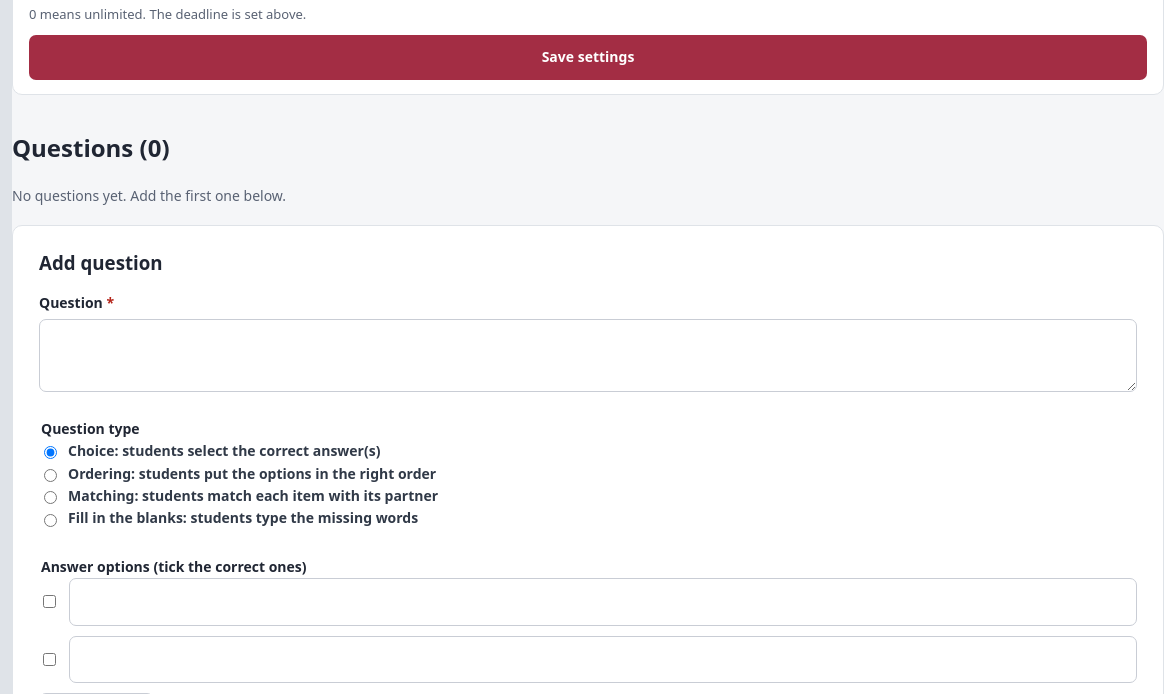
Test: QuizEditor › shows the server error when saving fails
(page scrolled)
Step 1. Type "Q" into the text box labelled "Question *" → (588, 355), box [39,319,1137,392]
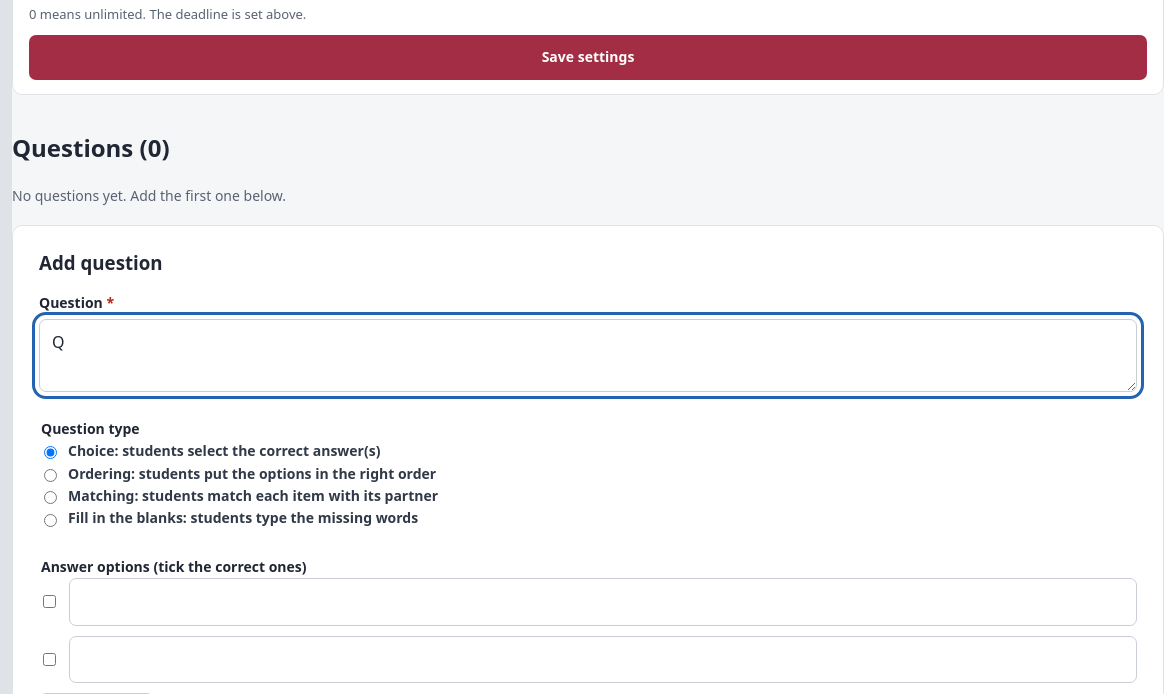
Step 2. Type "Bergen" into the field named "Option 1" → (603, 602), box [69,578,1137,626]
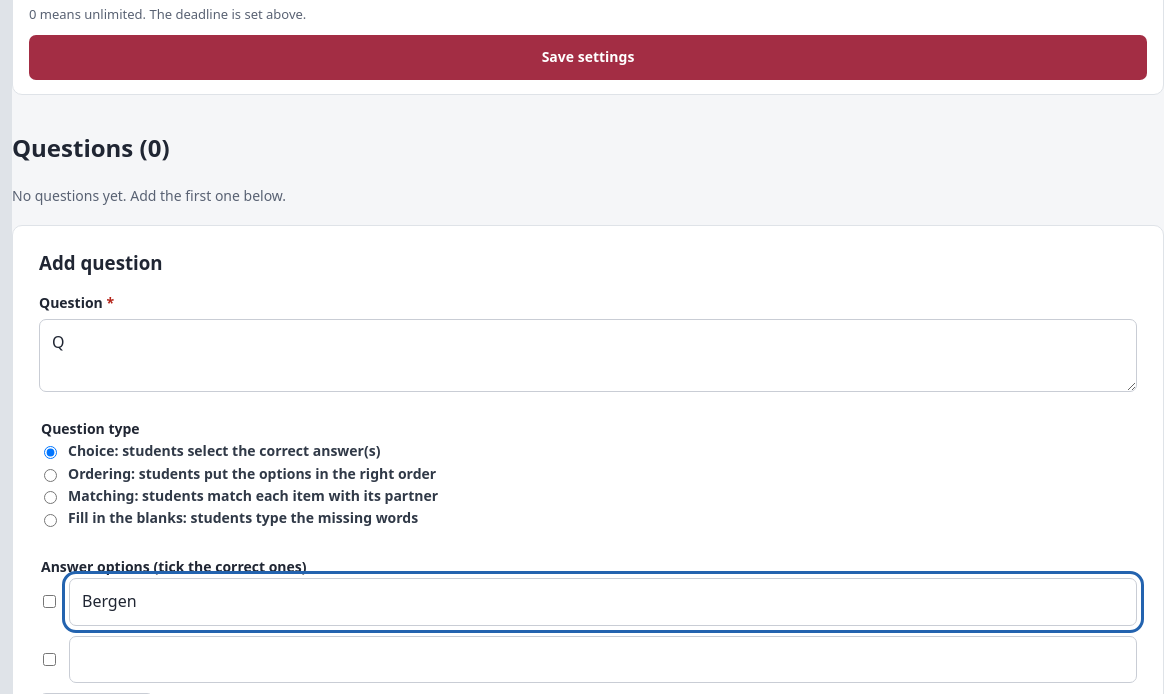
Step 3. Type "Oslo" into the field named "Option 2" → (603, 660), box [69,636,1137,683]
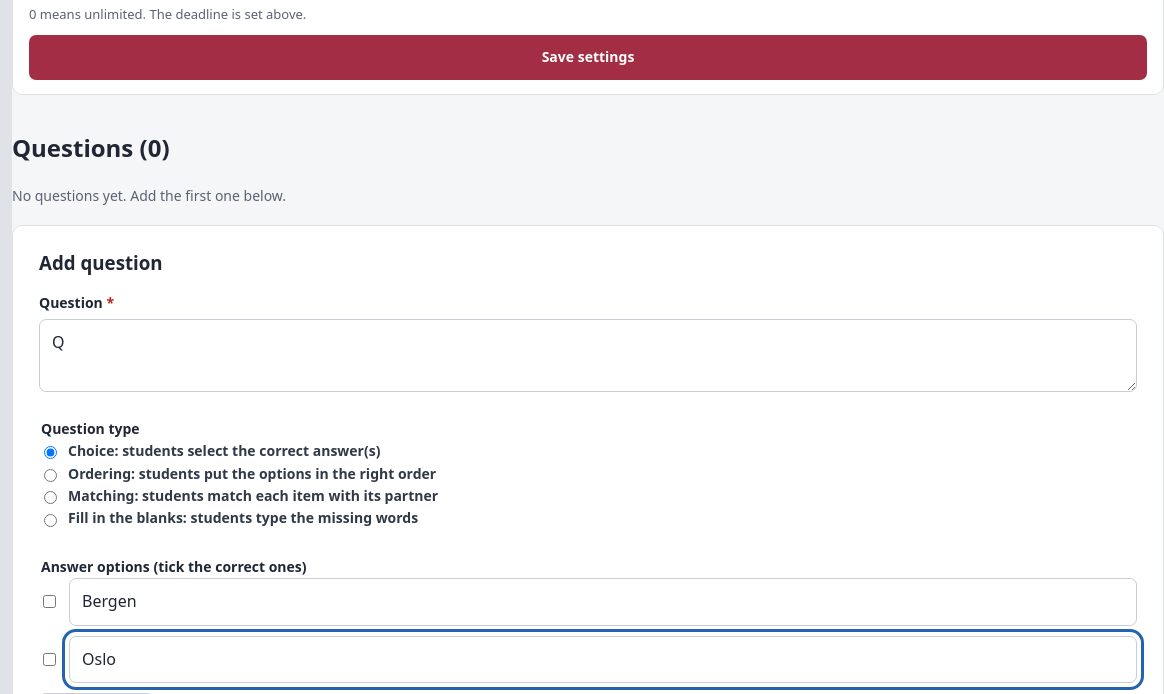
Step 4. Click the checkbox named "Option 1 is correct" → (50, 602), box [43,596,56,608]
(page scrolled)
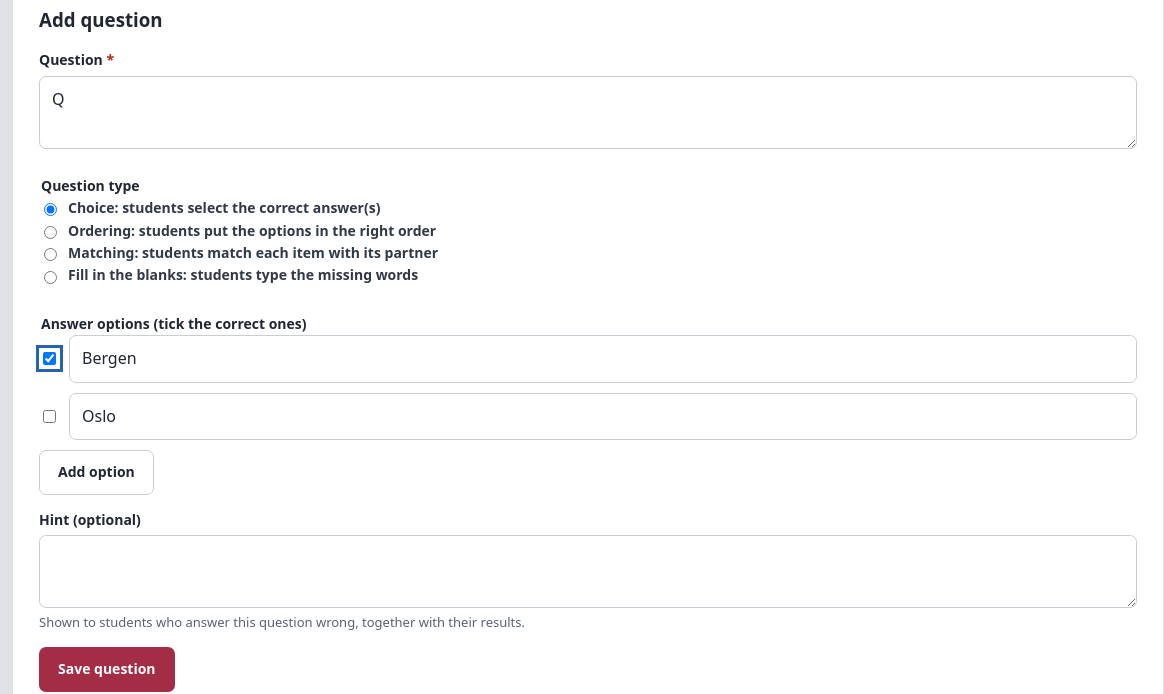
Step 5. Click the button "Save question" → (107, 669), box [39,647,175,692]
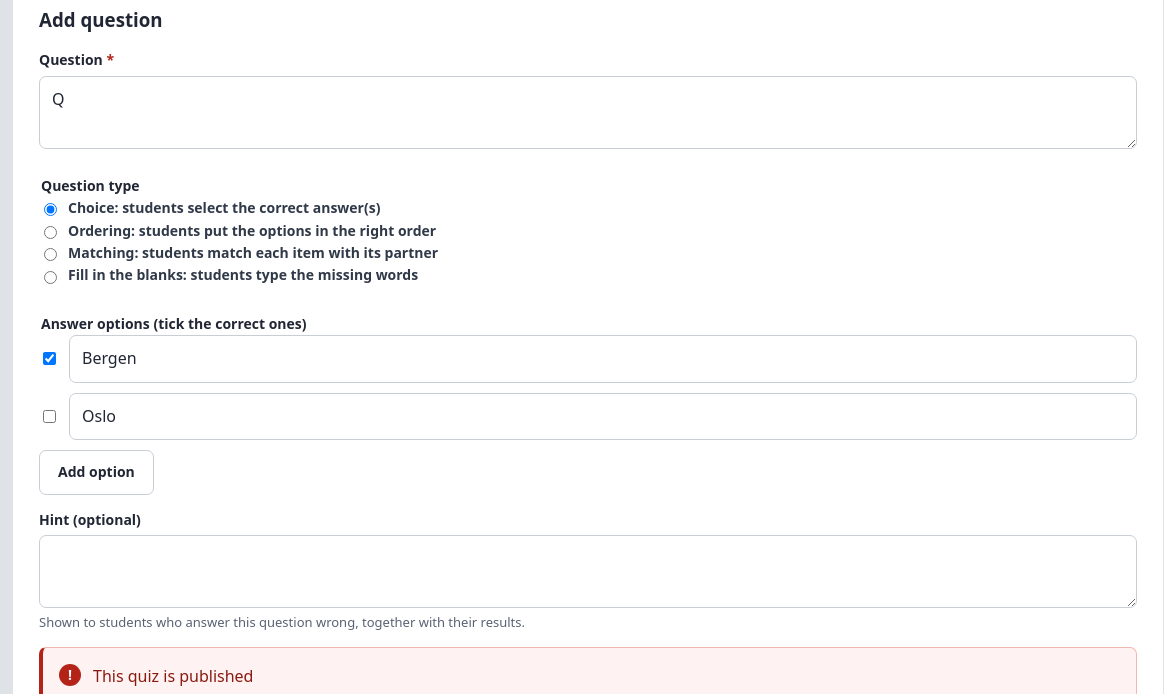
Now the text "This quiz is published" is shown, box [93,664,254,690]
